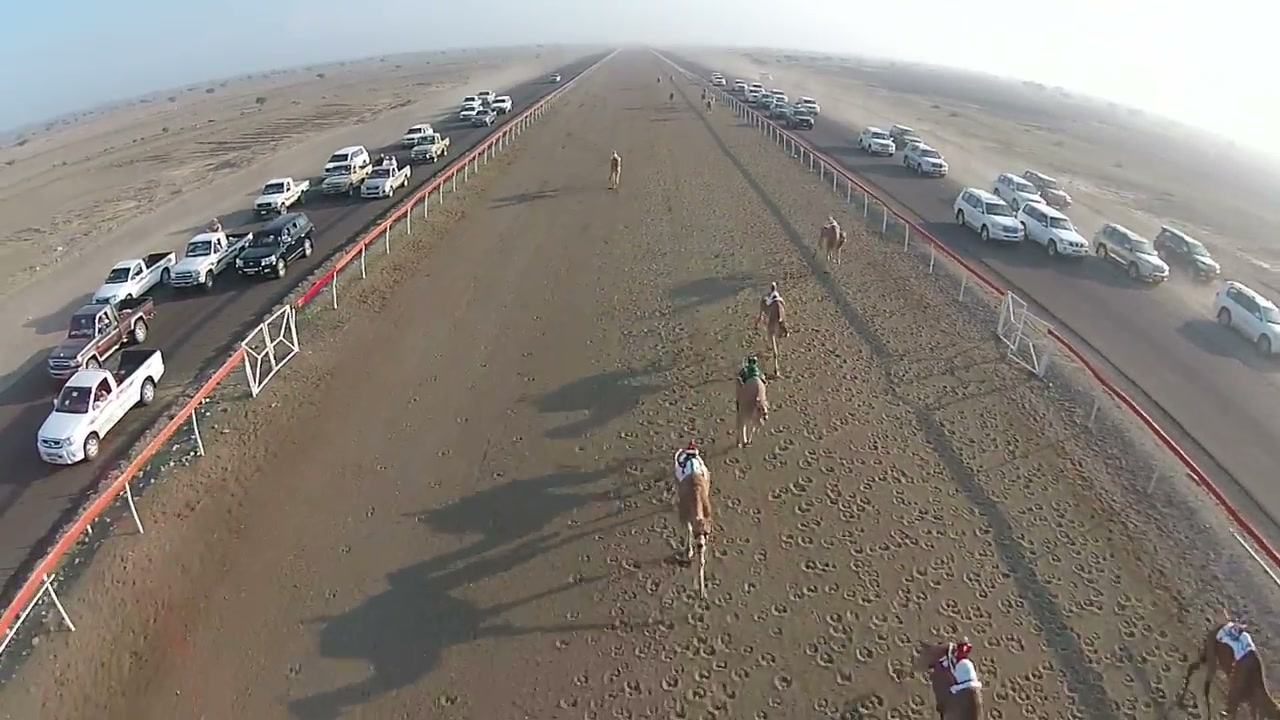animal_foot_print: (520, 298, 1173, 717)
